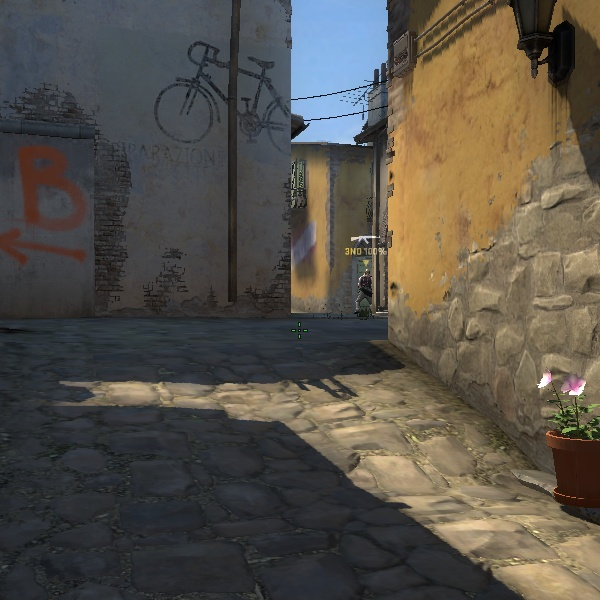t_body: (348, 269, 380, 316)
